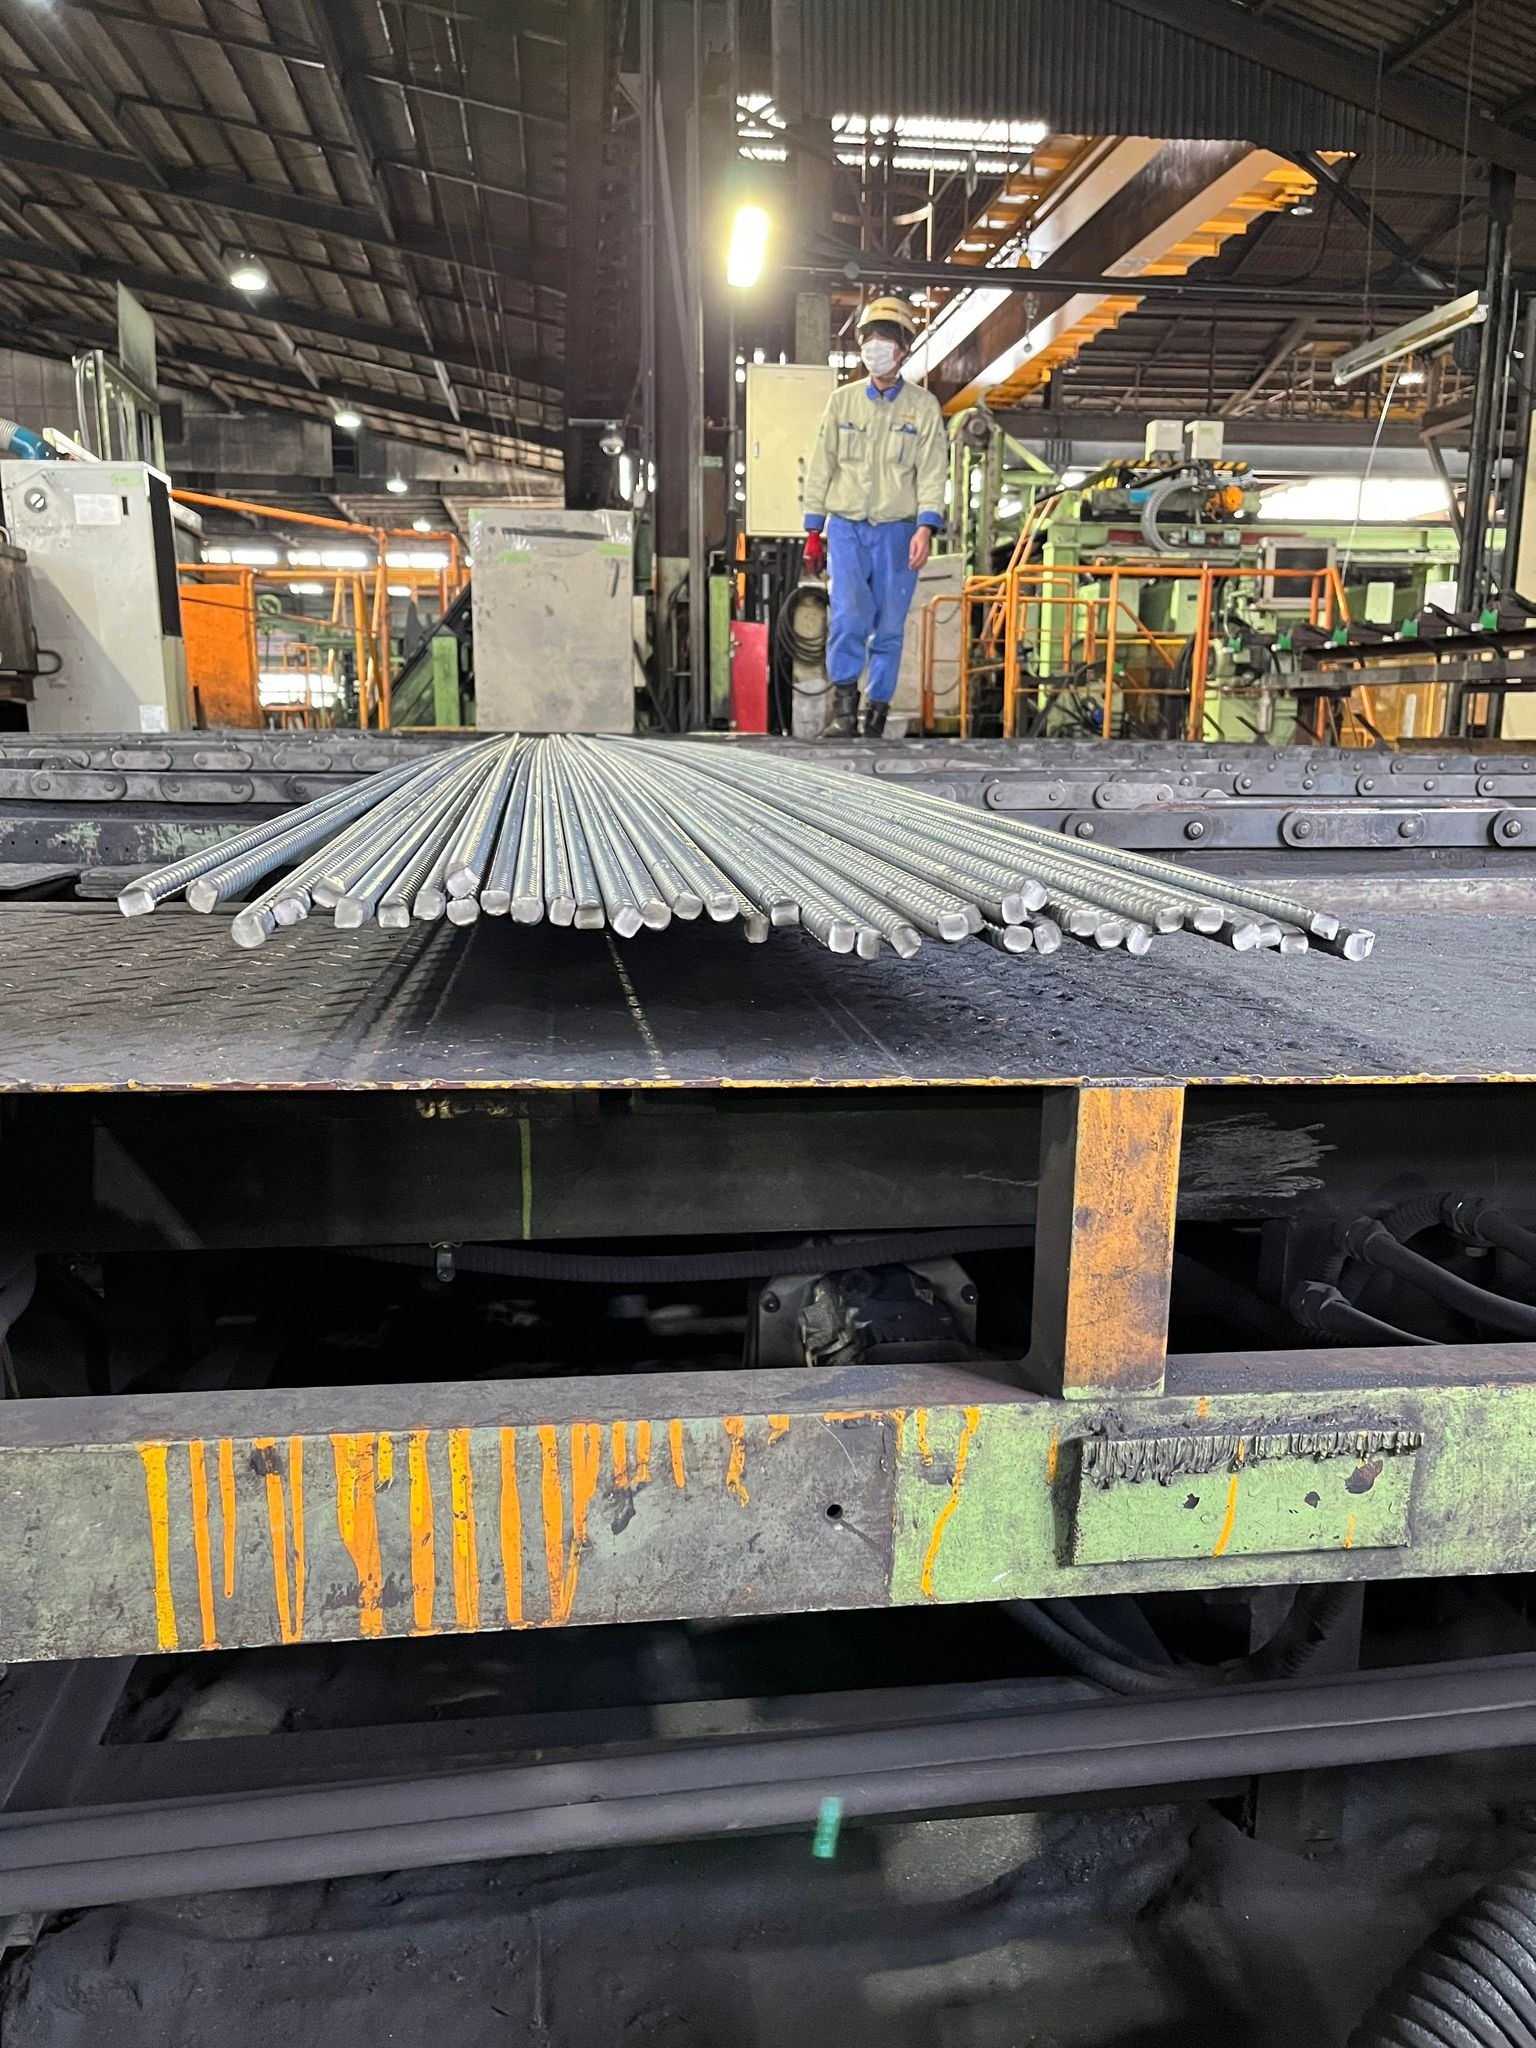rod: (229, 910, 268, 950), (115, 884, 153, 921), (311, 872, 349, 910), (610, 903, 645, 942), (186, 879, 219, 914), (332, 897, 368, 930), (707, 889, 741, 924), (936, 911, 970, 947), (374, 898, 410, 930), (413, 887, 445, 922), (445, 864, 481, 897), (510, 893, 545, 926), (573, 897, 605, 932), (1033, 921, 1065, 956), (855, 926, 886, 963), (891, 922, 921, 959), (1020, 876, 1050, 913), (271, 897, 310, 926), (1342, 927, 1376, 959), (1231, 919, 1262, 955), (1309, 910, 1341, 942), (771, 897, 802, 930), (445, 897, 481, 926), (828, 921, 857, 956), (1066, 908, 1099, 939), (644, 898, 673, 932), (1126, 922, 1155, 956), (1192, 905, 1226, 934), (673, 892, 703, 922), (1000, 926, 1033, 955), (744, 911, 771, 945), (1000, 892, 1028, 926), (479, 889, 510, 918), (1155, 905, 1184, 935), (1096, 921, 1125, 950), (549, 895, 574, 927), (962, 903, 987, 934), (1258, 919, 1283, 948), (1279, 930, 1309, 955)
